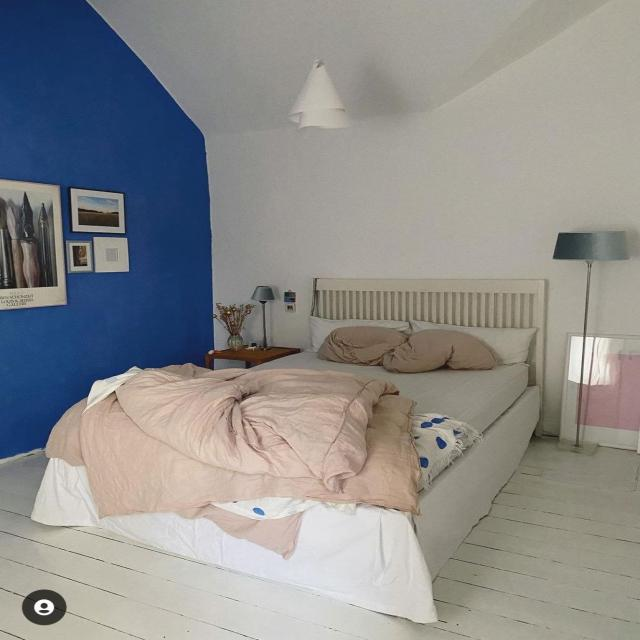bed: (64, 277, 546, 569)
